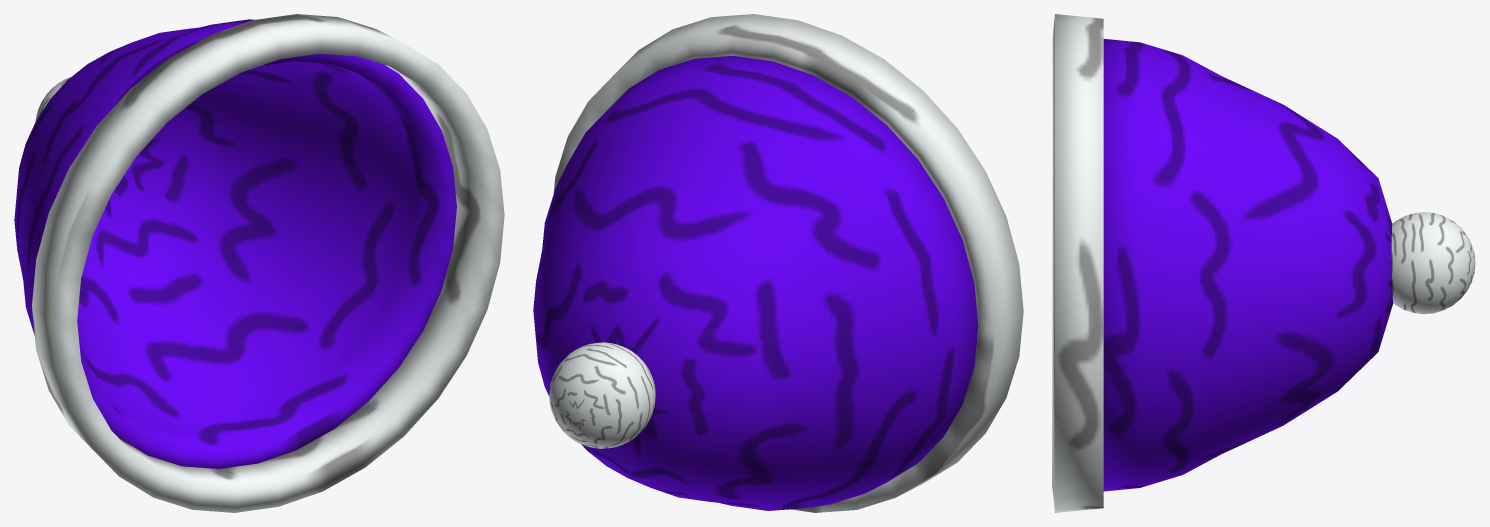
Rendered from item-beanie.glb.
3 views of the same model, side by side, from view 1: azimuth 30°, elevation 25°; view 2: azimuth 150°, elevation 25°; view 3: azimuth 270°, elevation 25° (orthographic). The views are drawn at different scales.
Bounding box in the file's own units: 0.0431 × 0.0431 × 0.0365.
2 materials, 2 textured.
